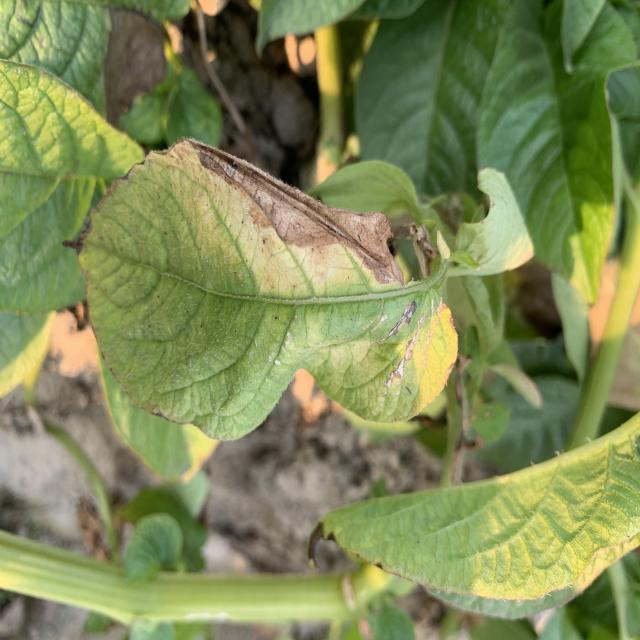lateblight: (184, 138, 402, 283)
